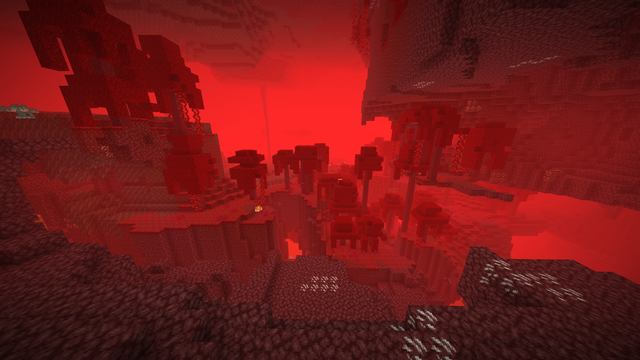quartz: (480, 259, 585, 306), (388, 307, 456, 360), (509, 54, 559, 69), (300, 274, 339, 293), (411, 80, 434, 89), (99, 144, 113, 158)
